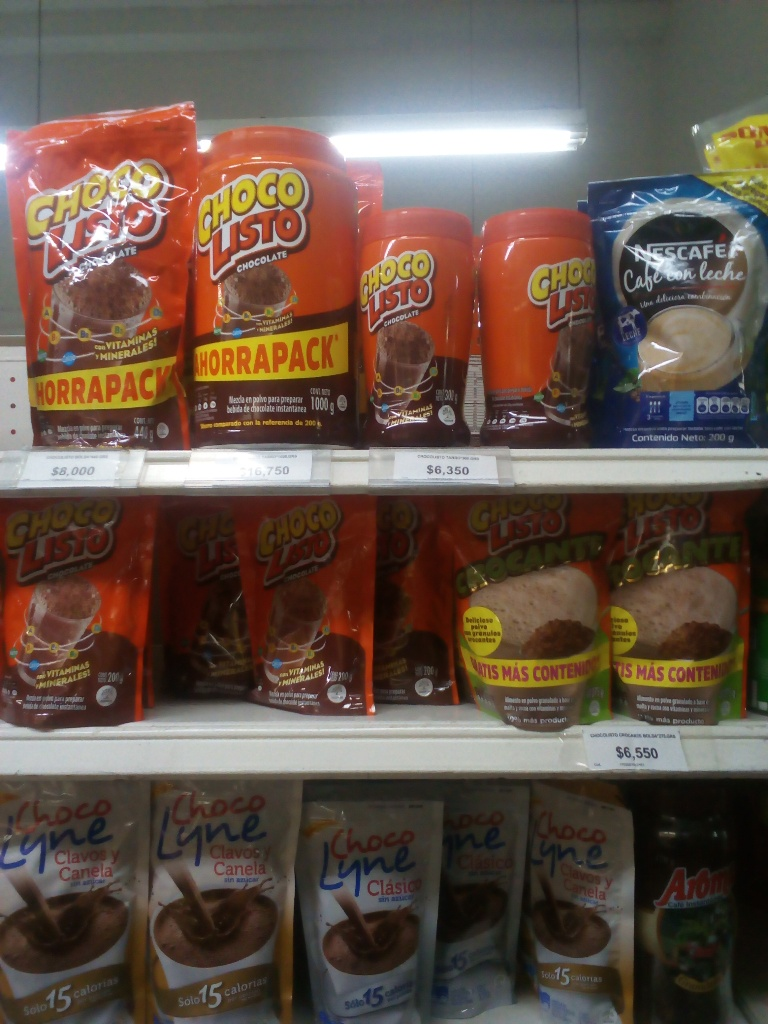COL0170103DYP44000: (6, 99, 200, 448)
COL0170103TRR00100: (201, 122, 365, 450)
